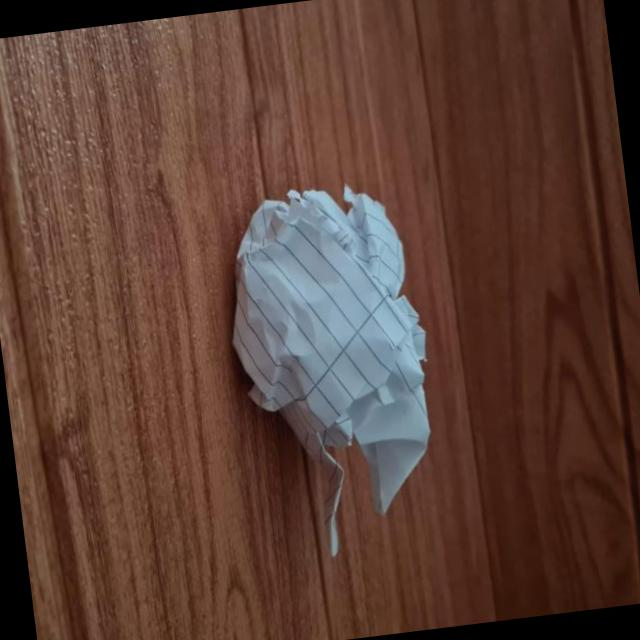cardboard paper: (234, 188, 431, 555)
